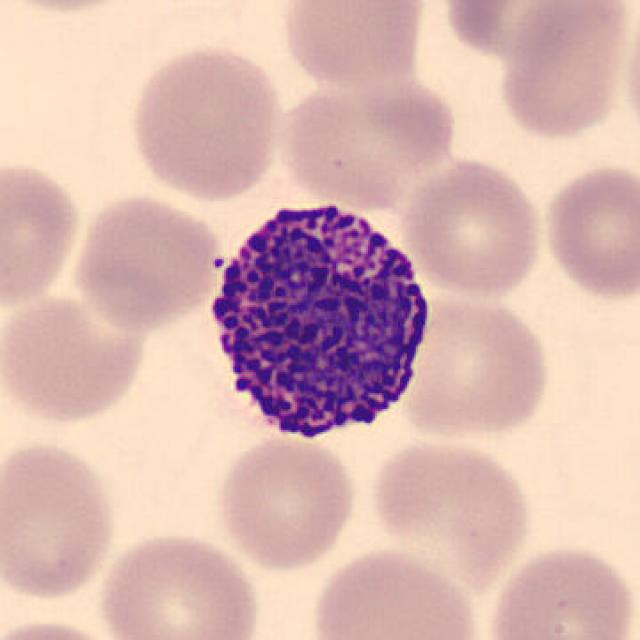Basophil: (194, 187, 444, 457)
RBC: (124, 41, 288, 204), (274, 68, 457, 212), (395, 289, 553, 443), (366, 434, 535, 576), (68, 190, 224, 332), (400, 154, 548, 302), (211, 432, 361, 573), (0, 287, 149, 428), (0, 435, 121, 605), (492, 1, 634, 144), (94, 527, 265, 640), (306, 543, 485, 640), (481, 539, 638, 640), (539, 159, 638, 305), (0, 153, 85, 317), (278, 0, 430, 90), (440, 0, 611, 63), (0, 613, 130, 640), (618, 3, 640, 146), (0, 0, 153, 16)
